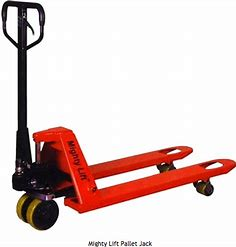Pallet Jack: (1, 1, 236, 233)
